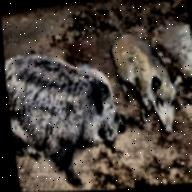boar: (2, 29, 144, 186)
